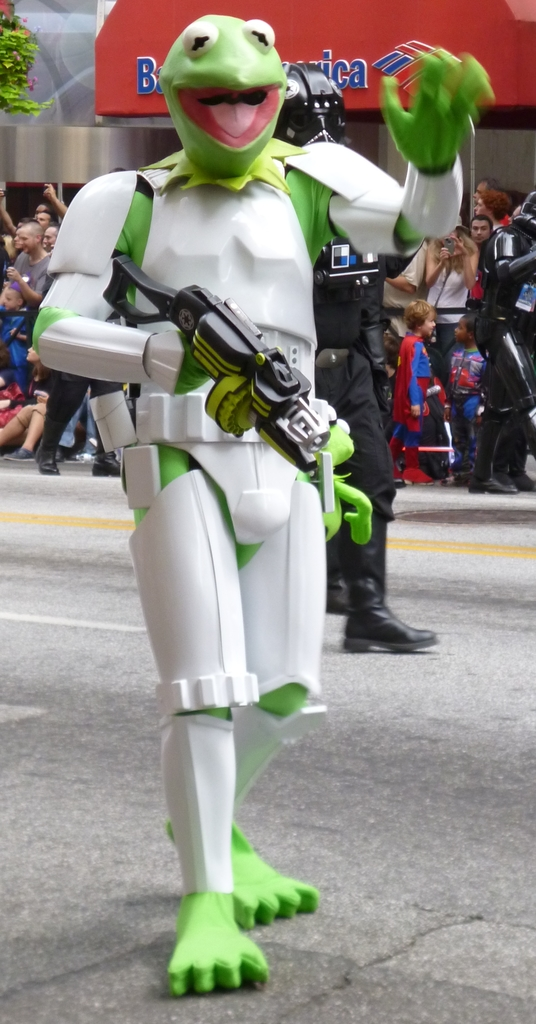Person: (0, 184, 536, 475), (272, 60, 437, 651)
